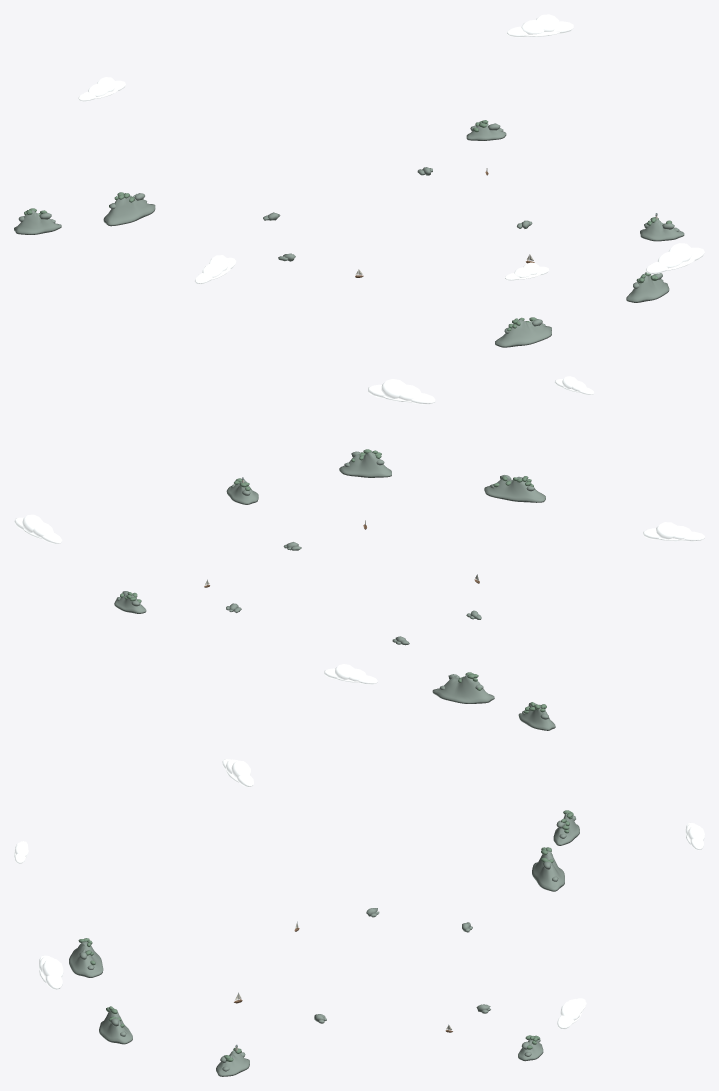
File: harbor-horizon.glb
3 renders of one model, top to bottom at view 1: azimuth 30°, elevation 25°; view 2: azimuth 150°, elevation 25°; view 3: azimuth 270°, elevation 25°, orthographic. The views are drawn at different scales.
Visible parts, largest first — view 1: POV_Horizon_Stone, POV_Horizon_Cloud, POV_Horizon_Canopy; view 2: POV_Horizon_Stone, POV_Horizon_Cloud, POV_Horizon_Canopy; view 3: POV_Horizon_Stone, POV_Horizon_Cloud, POV_Horizon_Canopy.
Part boxes in pixels (x1,y1,x2,y2): POV_Horizon_Stone: (14, 122, 684, 347); POV_Horizon_Cloud: (78, 14, 704, 284); POV_Horizon_Canopy: (24, 120, 671, 331); POV_Horizon_Stone: (114, 451, 555, 730); POV_Horizon_Cloud: (14, 376, 704, 684); POV_Horizon_Canopy: (120, 449, 546, 713); POV_Horizon_Stone: (69, 813, 579, 1076); POV_Horizon_Cloud: (14, 759, 704, 1029); POV_Horizon_Canopy: (78, 810, 573, 1061).
Size of the model in its own units: 113 by 20.29 by 118.
